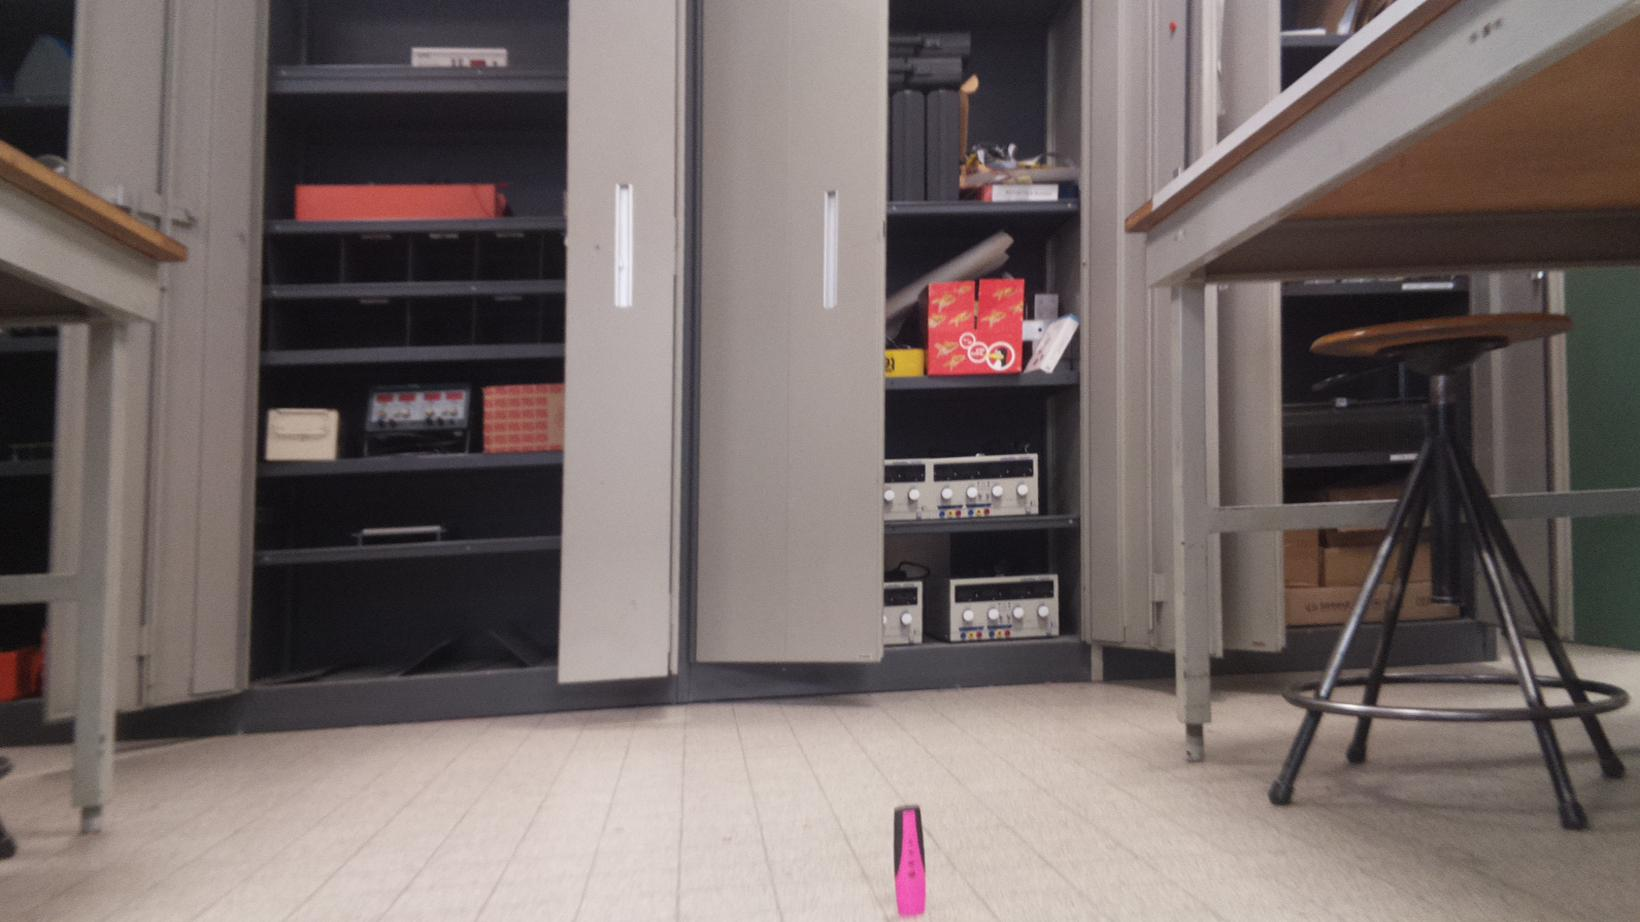small: (883, 794, 945, 922)
